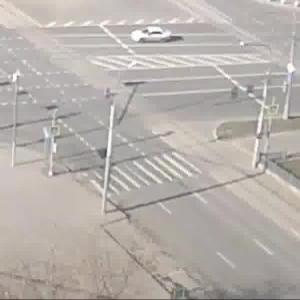car: (132, 25, 178, 46)
